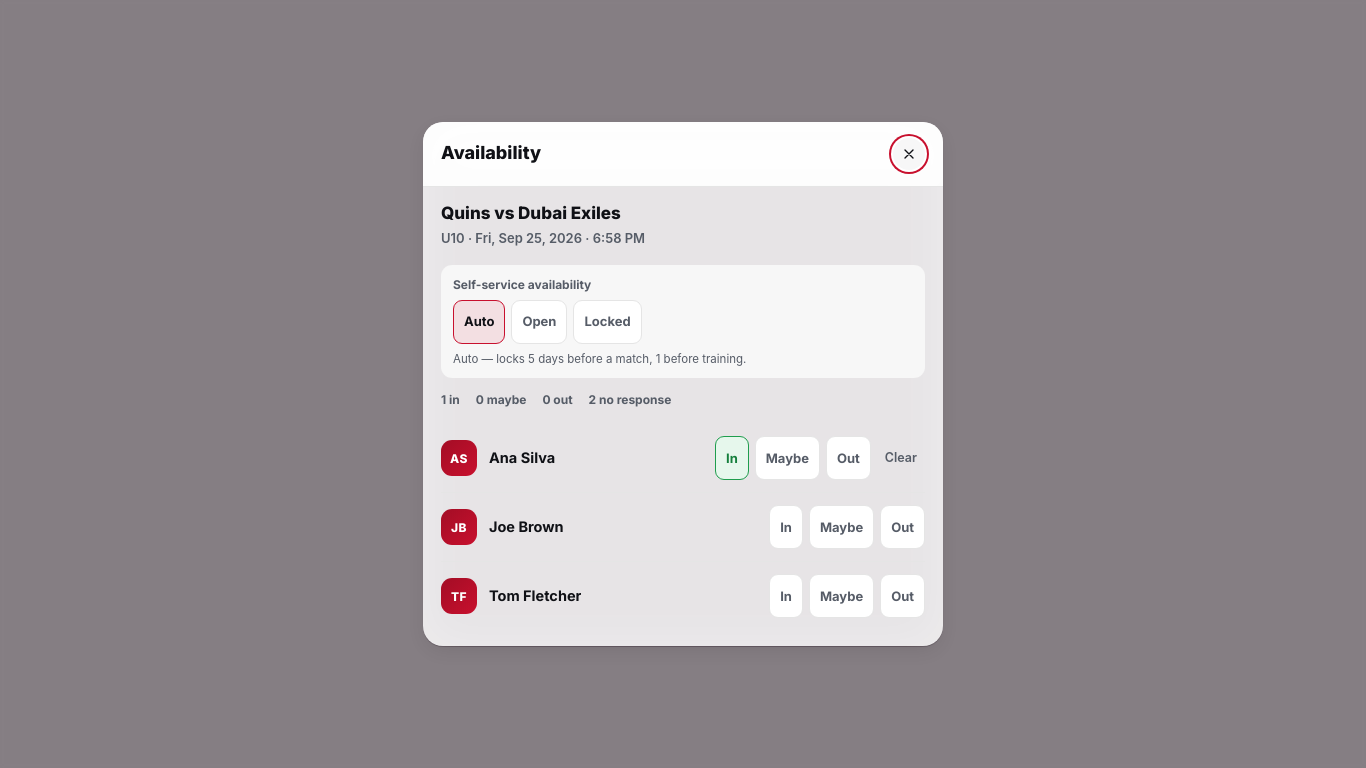
Availability — coach/admin can override anyone › does not change the row status when the save is refused
Check: the text "Ana Silva" is shown, box [489,448,555,468]
Click the button "Maybe" in the row of "AS" at (787, 458), box [755,436,820,480]
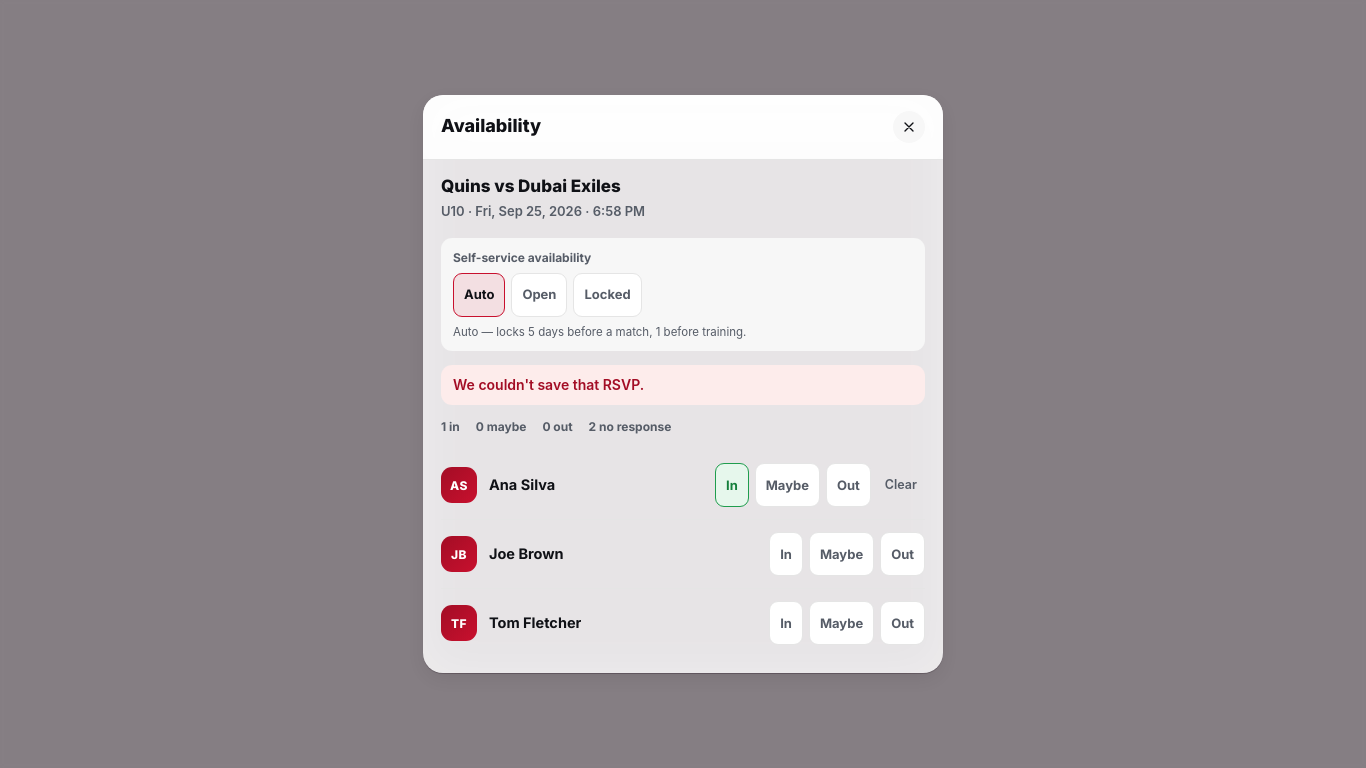
Check: the message "We couldn't save that RSVP." is shown, box [441,366,925,406]
